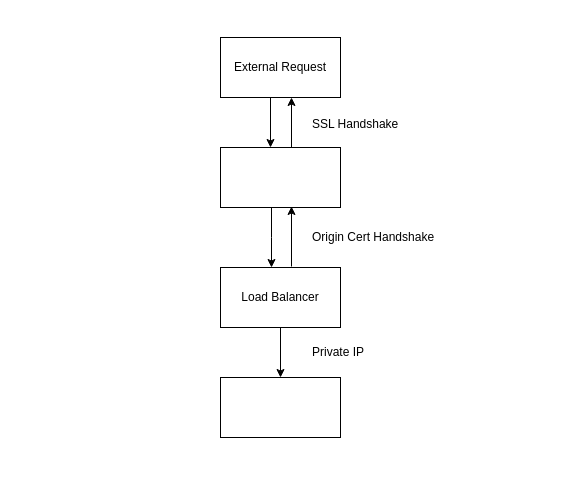
The diagram is 561 pixels wide and 480 high, and some of its shapes have lost their labels. Here are the shapes that lost their labels. From the top down, the box of each, then its label:
(220, 146, 340, 208): Cloudflare
(220, 376, 340, 438): App Servers
